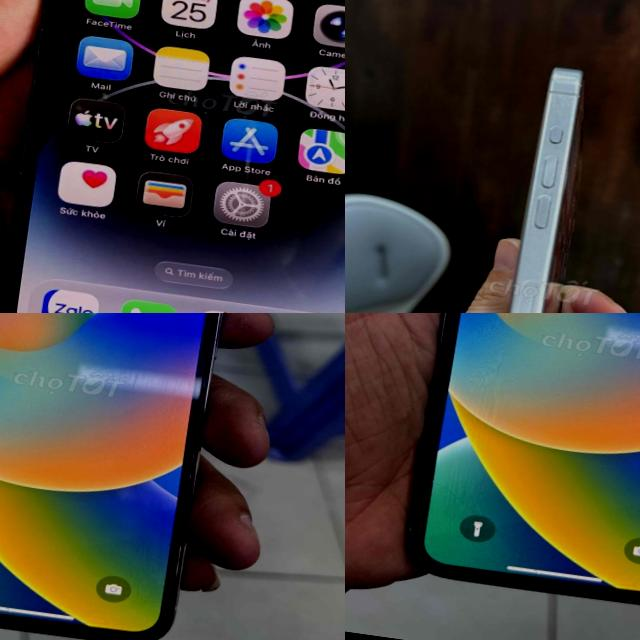physical_damage: (418, 476, 568, 581), (0, 514, 40, 619)
